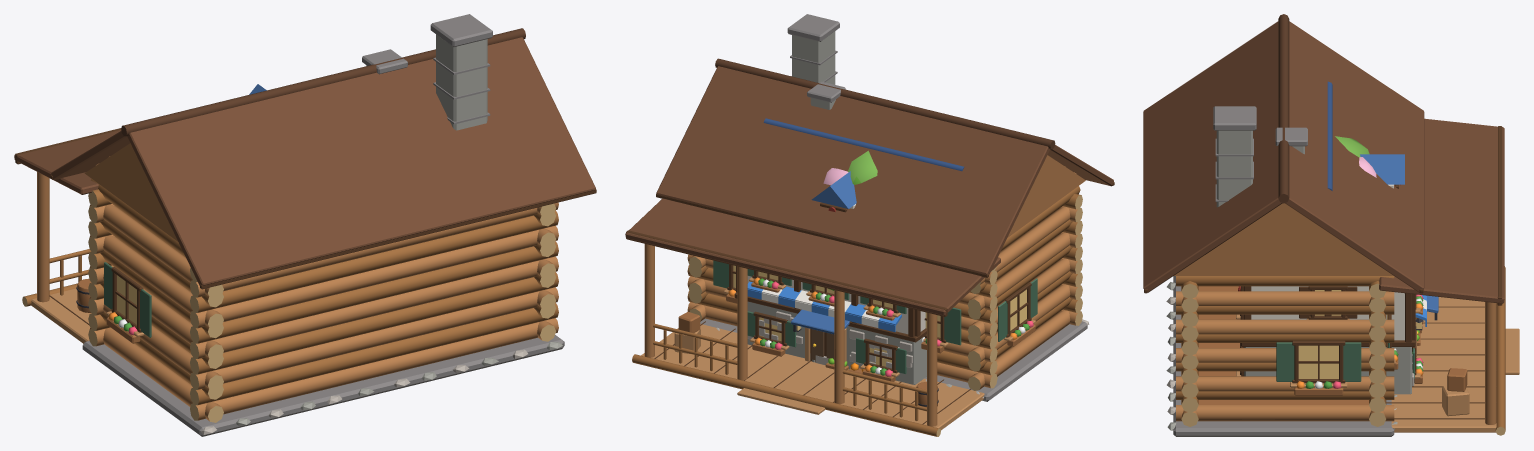
File: SmoothModels.fbx
3 renders of one model, left to right at view 1: azimuth 30°, elevation 25°; view 2: azimuth 150°, elevation 25°; view 3: azimuth 270°, elevation 25°, orthographic. The views are drawn at different scales.
Visible parts, largest first — view 1: S_log_cabin, S_house_blue; view 2: S_log_cabin, S_house_blue, S_shop_red, S_house_green, S_house_red, S_tree_meadow_3; view 3: S_log_cabin, S_house_blue.
Boxes of the visible parts, x1,y1,x2,y2 form: S_log_cabin: (14,14,596,436); S_house_blue: (249,49,407,94); S_log_cabin: (625,14,1114,436); S_house_blue: (734,81,964,384); S_shop_red: (747,207,901,374); S_house_green: (747,279,912,376); S_house_red: (747,277,912,375); S_tree_meadow_3: (848,150,877,184); S_log_cabin: (1143,14,1519,436); S_house_blue: (1236,81,1438,394).
Size of the model in its own units: 3040 by 2300 by 2689.
Materials: 1 (1 with a texture image).
